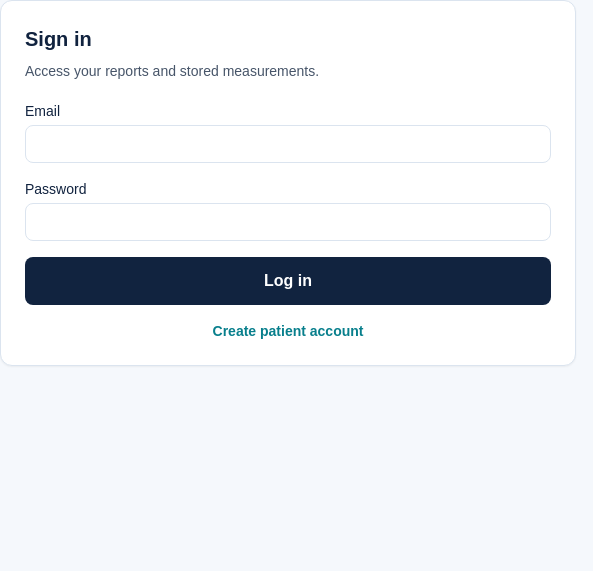
Test case: registers a patient without a role selector and returns to login
The image size is (593, 571).
Click the button "Create patient account" at (288, 331), box top-left (25, 321), bottom-right (551, 341)
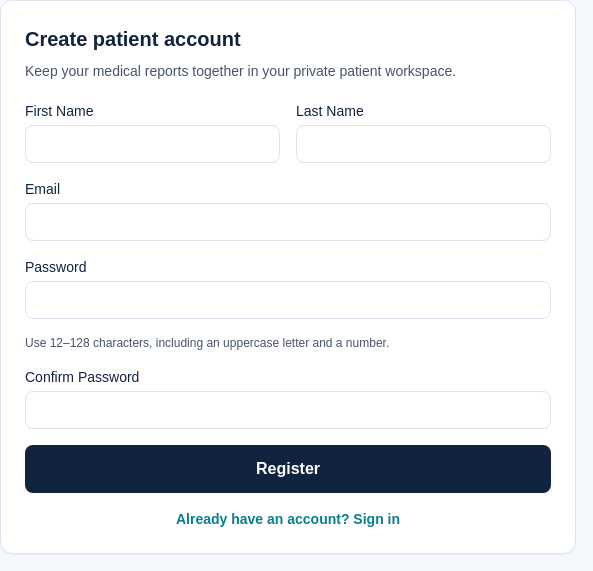
Type "Synthetic" into the field labelled "First Name" at (152, 144), box top-left (25, 125), bottom-right (280, 163)
Type "Patient" into the field labelled "Last Name" at (424, 144), box top-left (296, 125), bottom-right (551, 163)
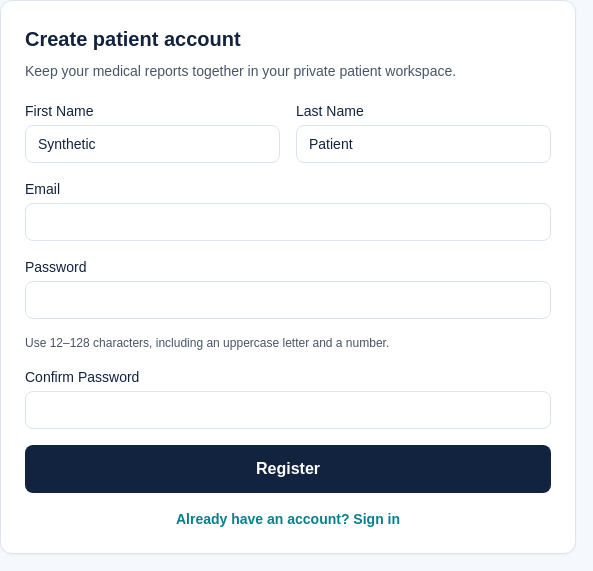
Type "synthetic@test.example" into the field labelled "Email" at (288, 222), box top-left (25, 203), bottom-right (551, 241)
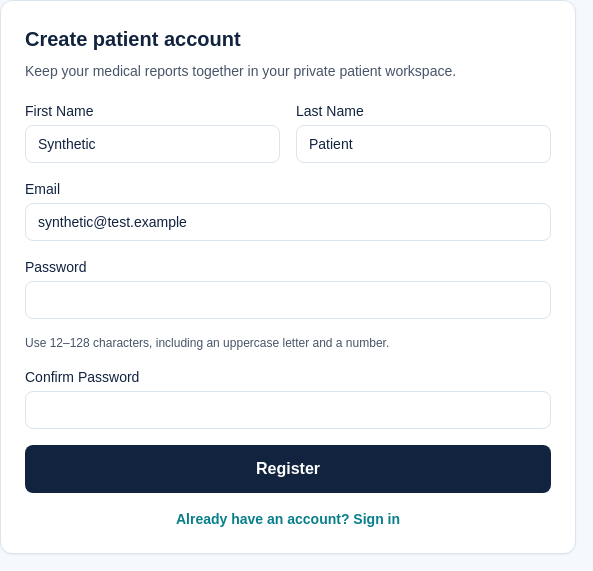
Type "StrongPassword123!" into the password field labelled "Password" at (288, 300), box top-left (25, 281), bottom-right (551, 319)
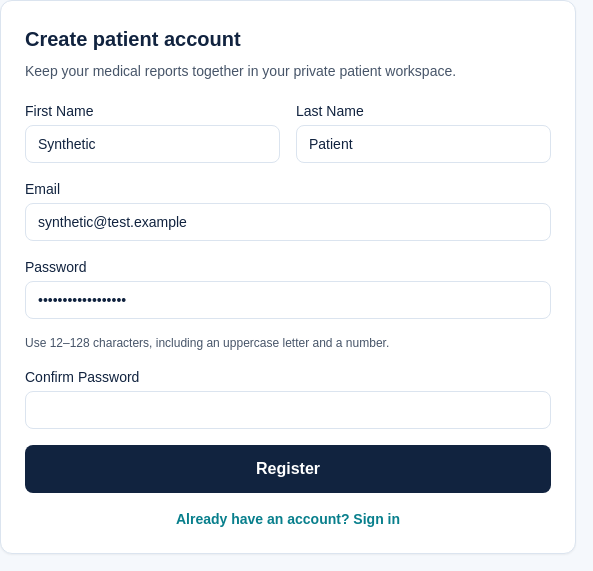
Type "StrongPassword123!" into the password field labelled "Confirm Password" at (288, 410), box top-left (25, 391), bottom-right (551, 429)
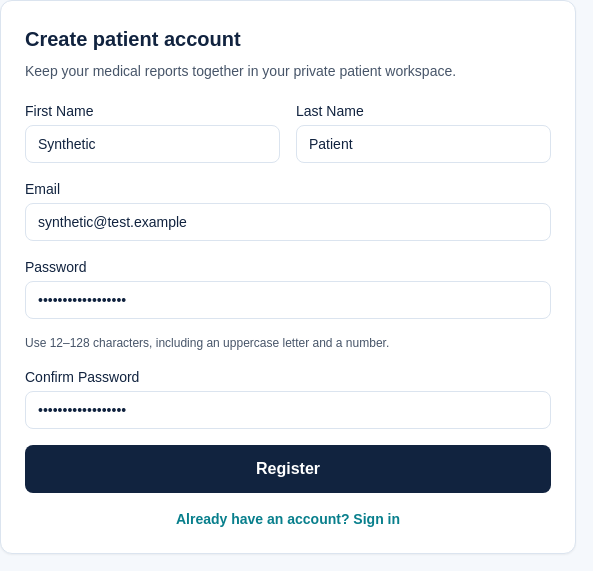
Click the button "Register" at (288, 469), box top-left (25, 445), bottom-right (551, 493)
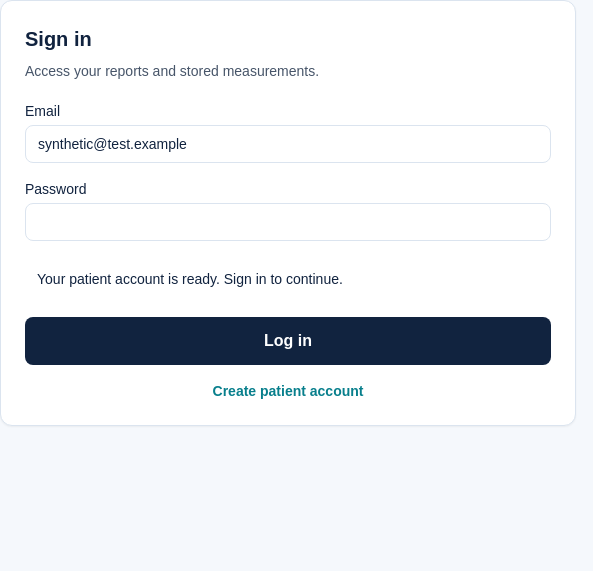
Now the text "Your patient account is ready. Sign in to continue." is shown, box top-left (37, 271), bottom-right (343, 287)
Now the password field labelled "Password" is empty, box top-left (25, 203), bottom-right (551, 241)
